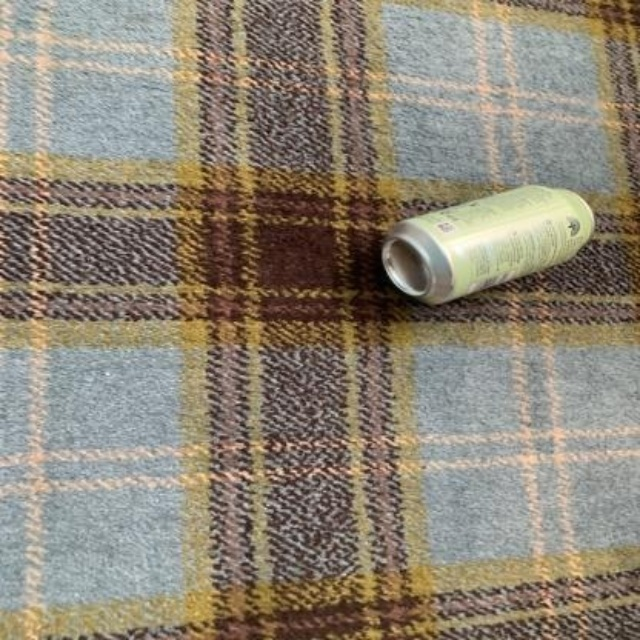trash: (382, 185, 592, 303)
